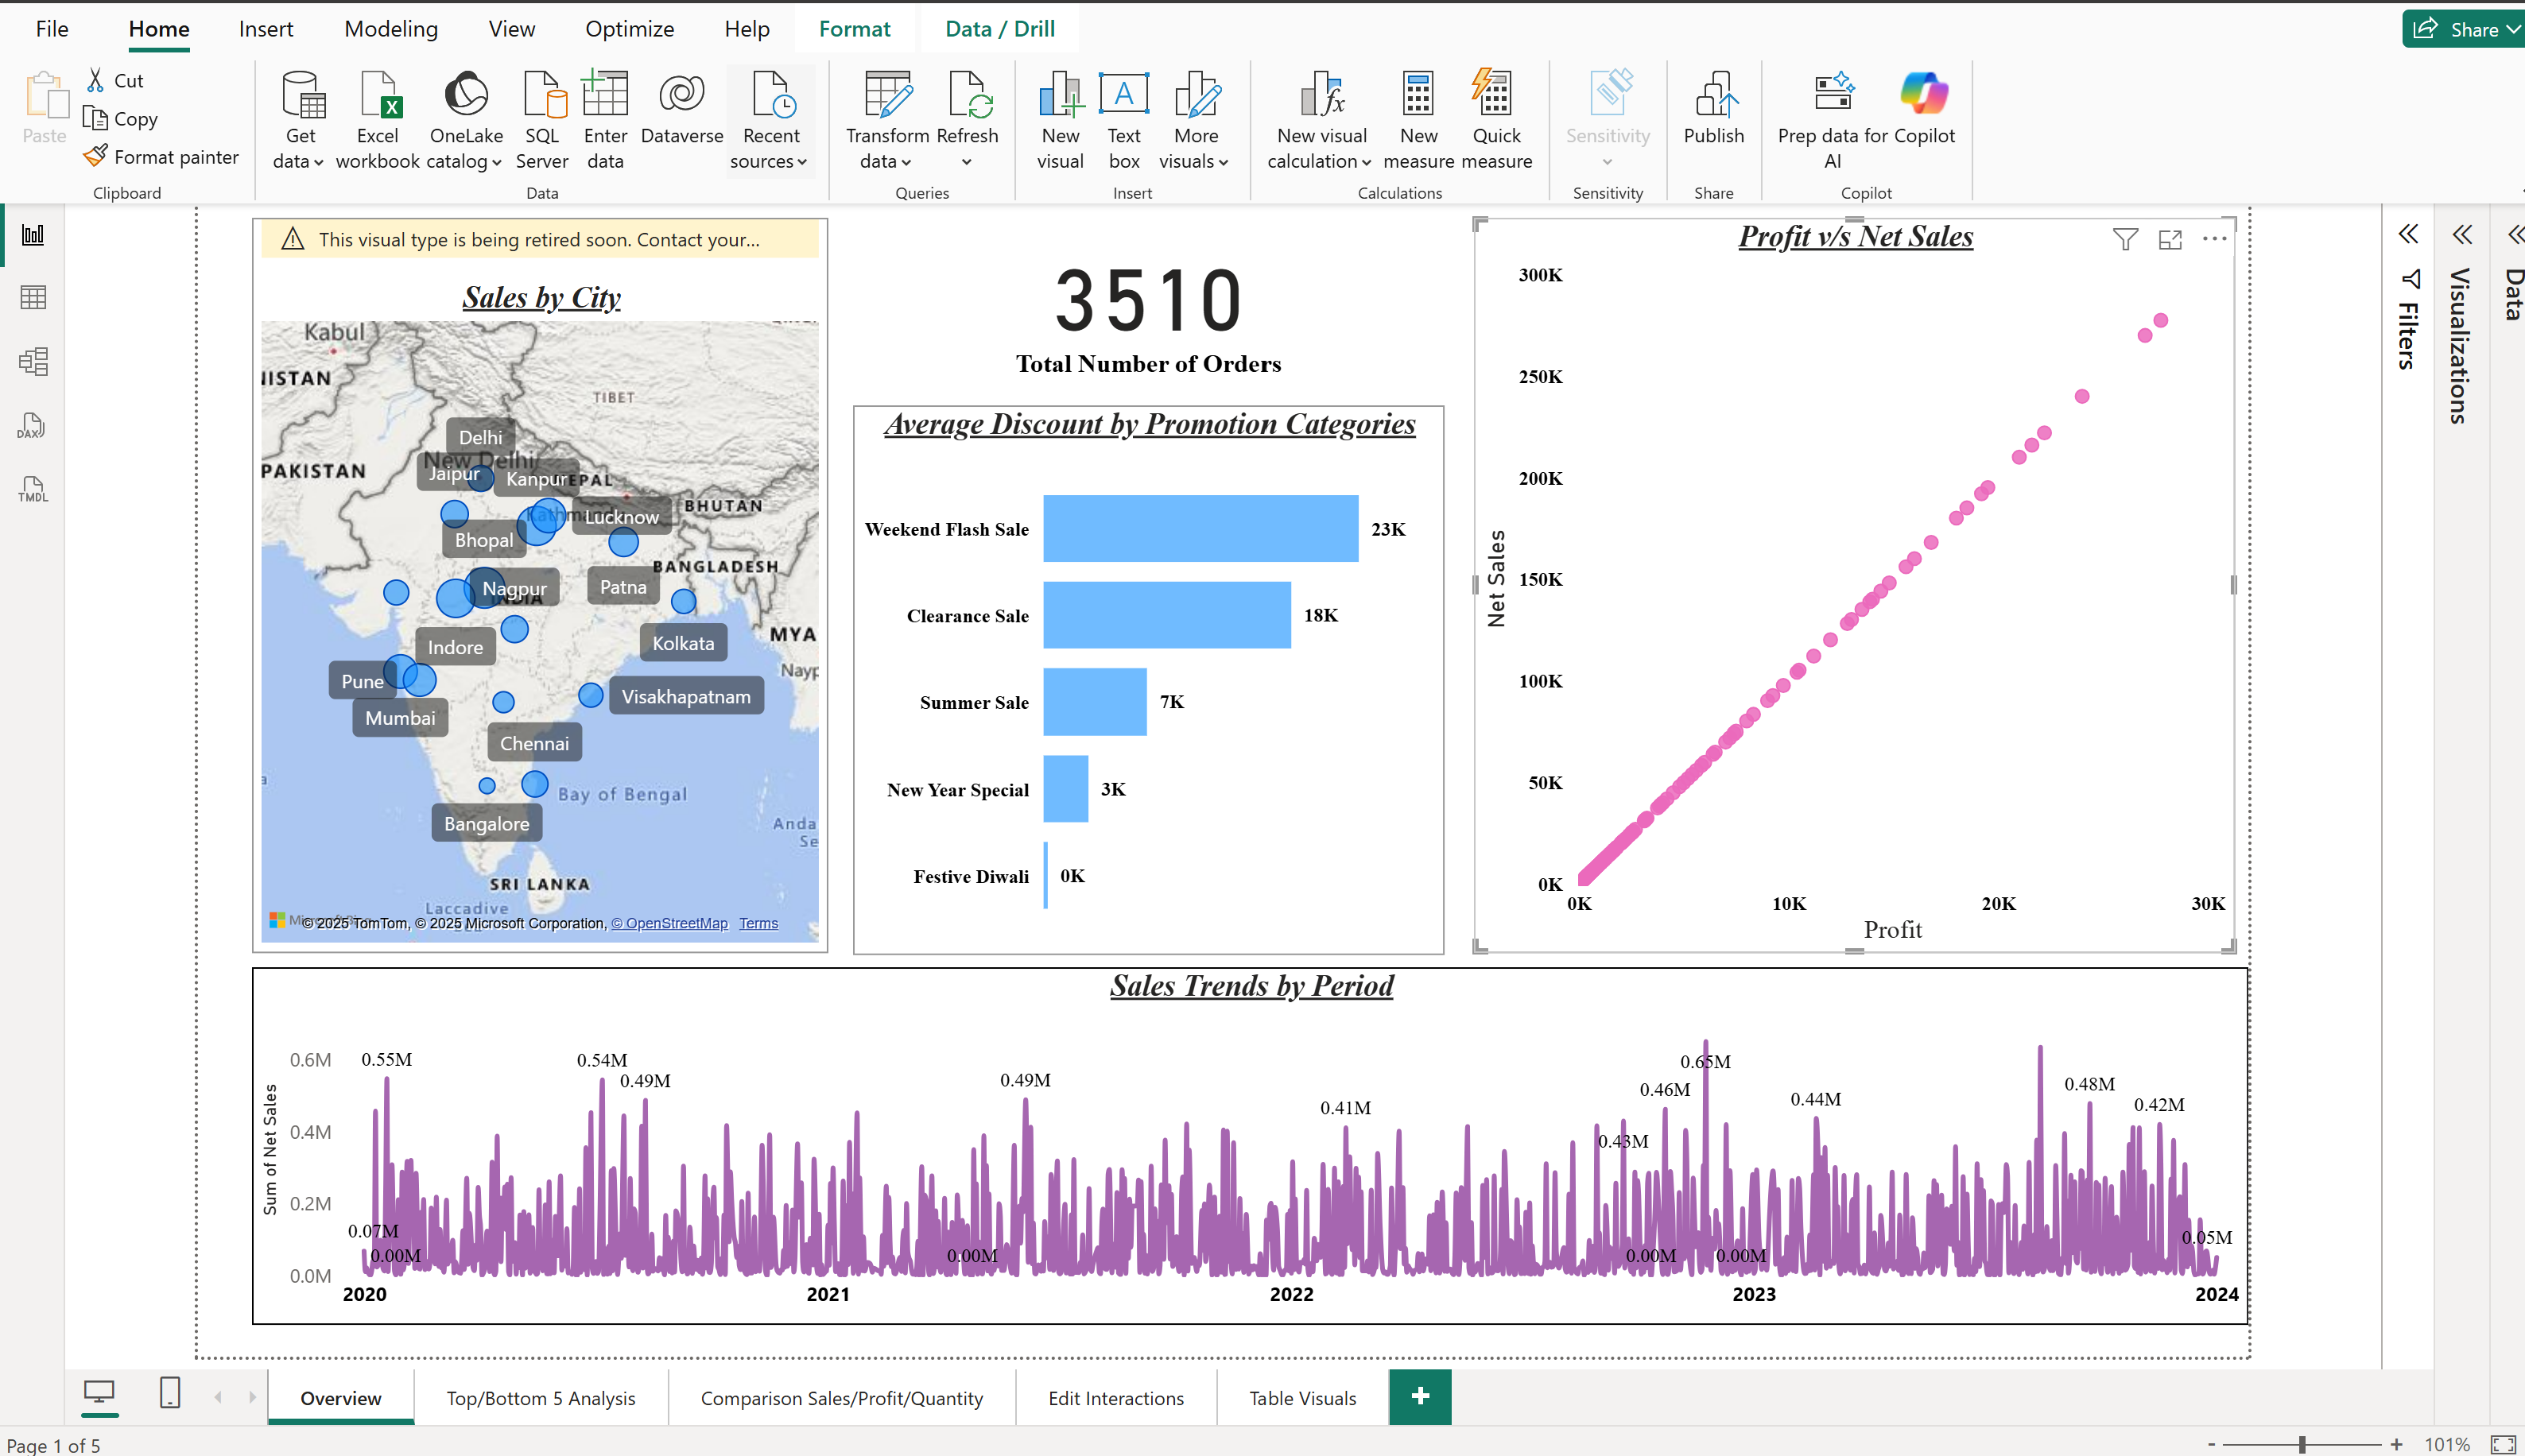

What the dashboard file says about the page in this screenshot:
{"tool":"powerbi","page":{"name":"Overview","canvas":[1280,720],"ordinal":0},"visuals":[{"type":"lineChart","title":"Sales Trends by Period","fields":{"Y":["Sum(Fact Table.Net Sales   )"],"Category":["Fact Table.Date (dd/mm/yyyy).Variation.Date Hierarchy.Year"]},"box":[33.4,476.8,1246.6,223.6],"z":0},{"type":"scatterChart","title":"Profit v/s Net Sales   ","fields":{"X":["Fact Table.Profit"],"Y":["Fact Table.Net Sales   "]},"box":[796.8,9,475.5,458.8],"z":1000},{"type":"barChart","title":"Average Discount by Promotion Categories","fields":{"Y":["Avg(Fact Table.Discount)"],"Category":["Dim Promotion.Promotion Name"]},"box":[408.7,125.9,368.8,343.1],"z":2000},{"type":"map","title":"Sales by City","fields":{"Category":["Dim Customers.City"],"Size":["Sum(Fact Table.Net Sales   )"]},"box":[33.4,9,359.8,458.8],"z":3000},{"type":"card","fields":{"Values":["CountNonNull(Fact Table.Order ID)"]},"box":[408.7,9,368.8,106.7],"z":4000}]}

Visuals, with their boxes on the page's 1280x720 design canvas (x1, y1, x2, y2). These are canvas units, not pixel positions in the 2525x1456 screenshot, which may show the page scaled, cropped or inside an application window:
"Sales Trends by Period" lineChart: [left=33, top=477, right=1280, bottom=700]
"Profit v/s Net Sales   " scatterChart: [left=797, top=9, right=1272, bottom=468]
"Average Discount by Promotion Categories" barChart: [left=409, top=126, right=778, bottom=469]
"Sales by City" map: [left=33, top=9, right=393, bottom=468]
card - CountNonNull(Fact Table.Order ID): [left=409, top=9, right=778, bottom=116]
